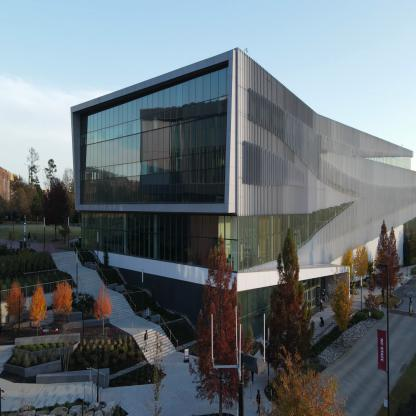Hunt Library: (44, 43, 416, 359)
